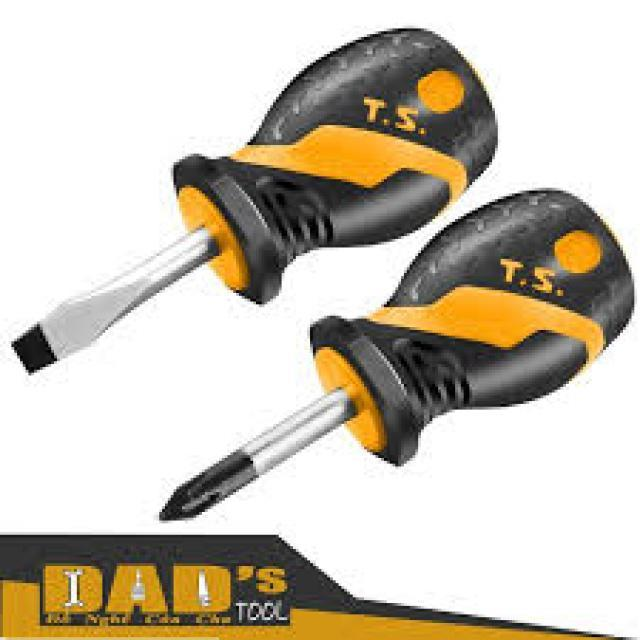screwdriver: (7, 26, 502, 378), (153, 188, 634, 526)
